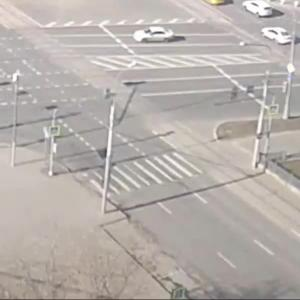car: (137, 20, 178, 46), (259, 26, 299, 48), (236, 1, 273, 17)
